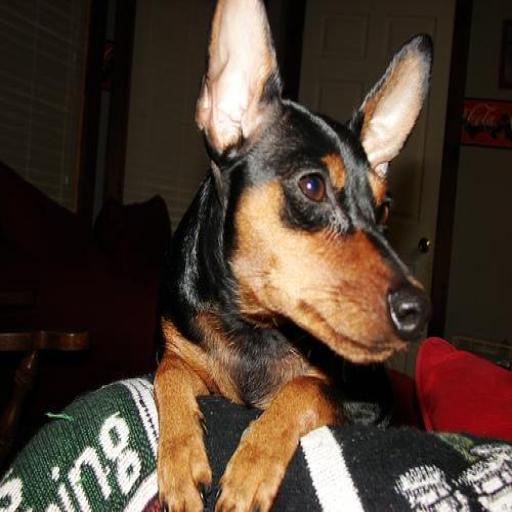dog_face: (193, 2, 432, 364)
